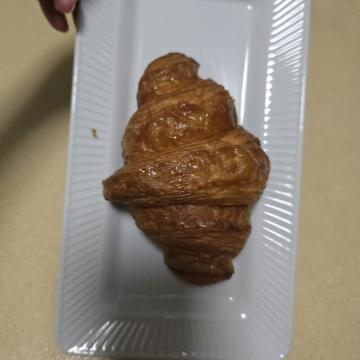croissant: (47, 83, 296, 270)
